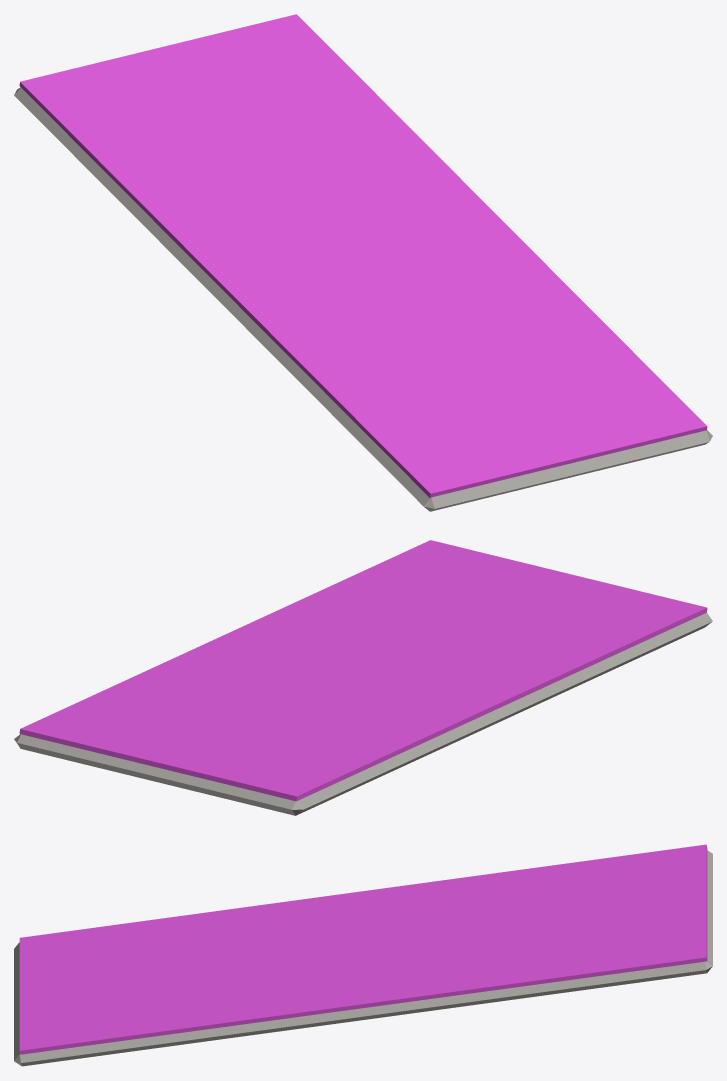
3 renders of one model, top to bottom at view 1: azimuth 30°, elevation 25°; view 2: azimuth 150°, elevation 25°; view 3: azimuth 270°, elevation 25°, orthographic. The views are drawn at different scales.
Parts seen in each view (by area): view 1: NAV_MASK_FOREST_PATH_GRAVEL_SLOPE_DOWN_SLOPE, LOD2_FOREST_PATH_GRAVEL_SLOPE_DOWN_Slope; view 2: NAV_MASK_FOREST_PATH_GRAVEL_SLOPE_DOWN_SLOPE, LOD2_FOREST_PATH_GRAVEL_SLOPE_DOWN_Slope; view 3: NAV_MASK_FOREST_PATH_GRAVEL_SLOPE_DOWN_SLOPE, LOD2_FOREST_PATH_GRAVEL_SLOPE_DOWN_Slope.
Boxes of the visible parts, x1=… form: NAV_MASK_FOREST_PATH_GRAVEL_SLOPE_DOWN_SLOPE: x1=19, y1=14, x2=707, y2=498; LOD2_FOREST_PATH_GRAVEL_SLOPE_DOWN_Slope: x1=14, y1=87, x2=712, y2=511; NAV_MASK_FOREST_PATH_GRAVEL_SLOPE_DOWN_SLOPE: x1=19, y1=540, x2=707, y2=801; LOD2_FOREST_PATH_GRAVEL_SLOPE_DOWN_Slope: x1=14, y1=612, x2=712, y2=815; NAV_MASK_FOREST_PATH_GRAVEL_SLOPE_DOWN_SLOPE: x1=19, y1=844, x2=707, y2=1054; LOD2_FOREST_PATH_GRAVEL_SLOPE_DOWN_Slope: x1=14, y1=850, x2=712, y2=1066.
Size of what is drawn, in the model's own units: 3.2 by 1.38 by 8.
